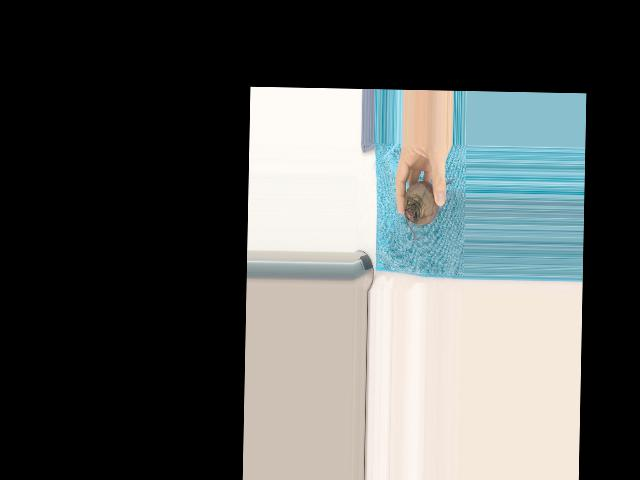beet: (403, 178, 454, 240)
